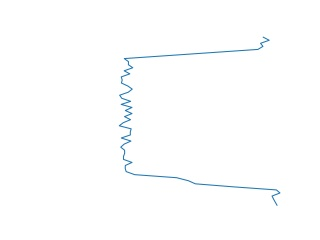distributaryChannelFill: (115, 38, 285, 204)
